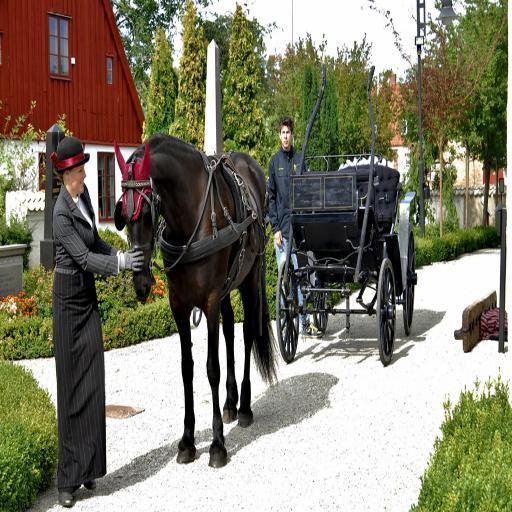horse: (112, 132, 280, 472)
